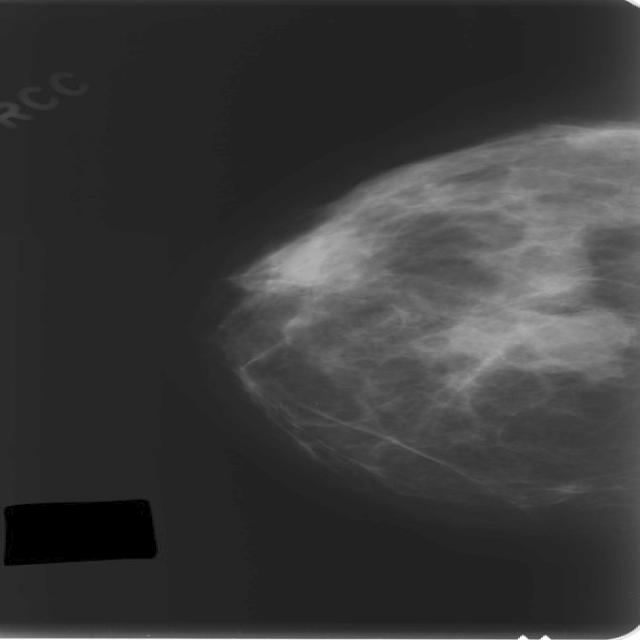tumour: (446, 297, 630, 374)
